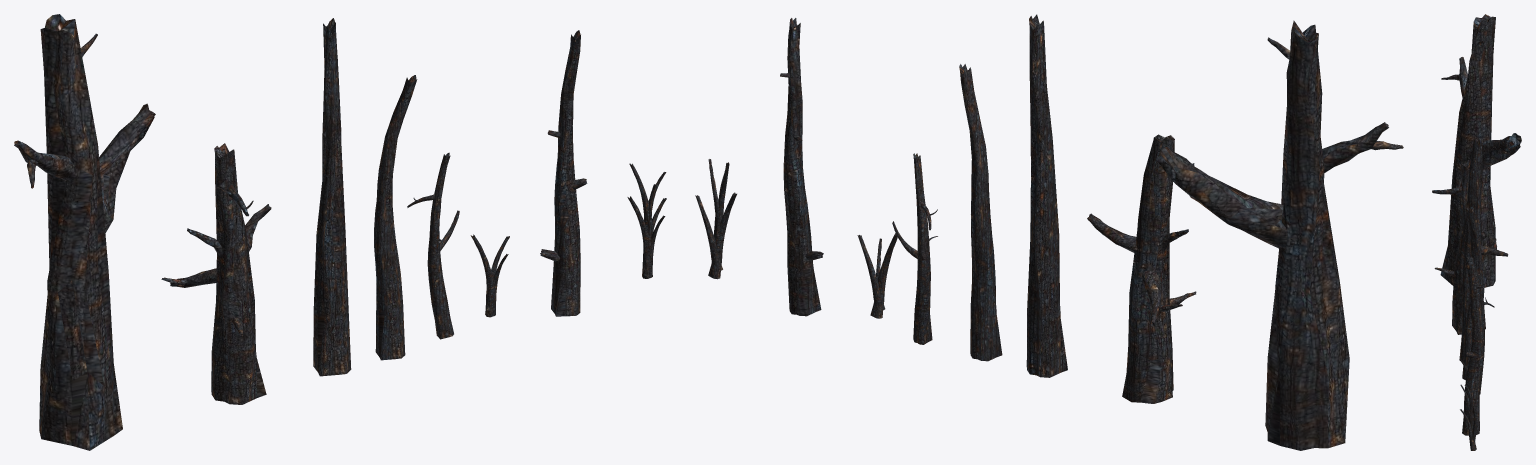
3 renders of one model, left to right at view 1: azimuth 30°, elevation 25°; view 2: azimuth 150°, elevation 25°; view 3: azimuth 270°, elevation 25°, orthographic. The views are drawn at different scales.
Visible parts, largest first — view 1: DeadTree_Pack; view 2: DeadTree_Pack; view 3: DeadTree_Pack.
Part boxes in pixels (bbox=[...]): DeadTree_Pack: bbox=[14, 14, 666, 450]; DeadTree_Pack: bbox=[695, 14, 1403, 450]; DeadTree_Pack: bbox=[1432, 14, 1521, 450].
Bounding box in the file's own units: 6.17 × 3.62 × 1.13.
1 material, 1 textured.
